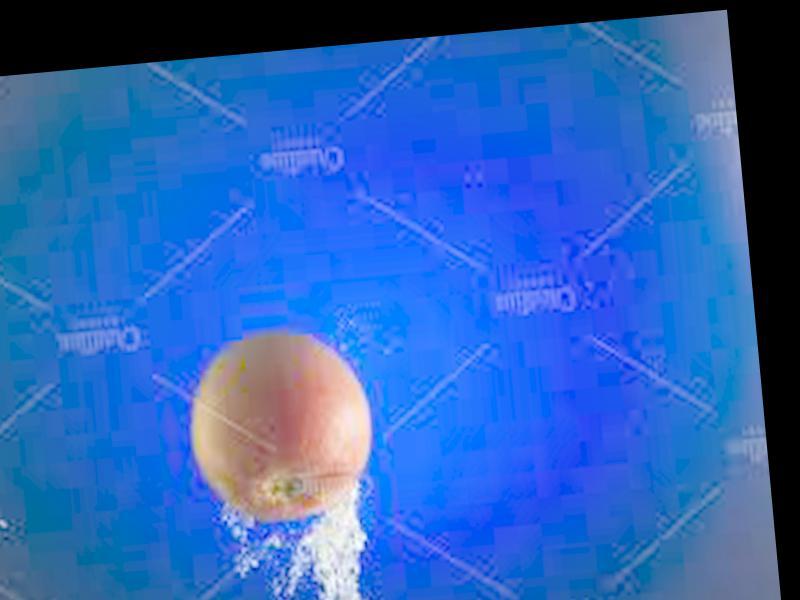Tomato: (181, 329, 378, 528)
